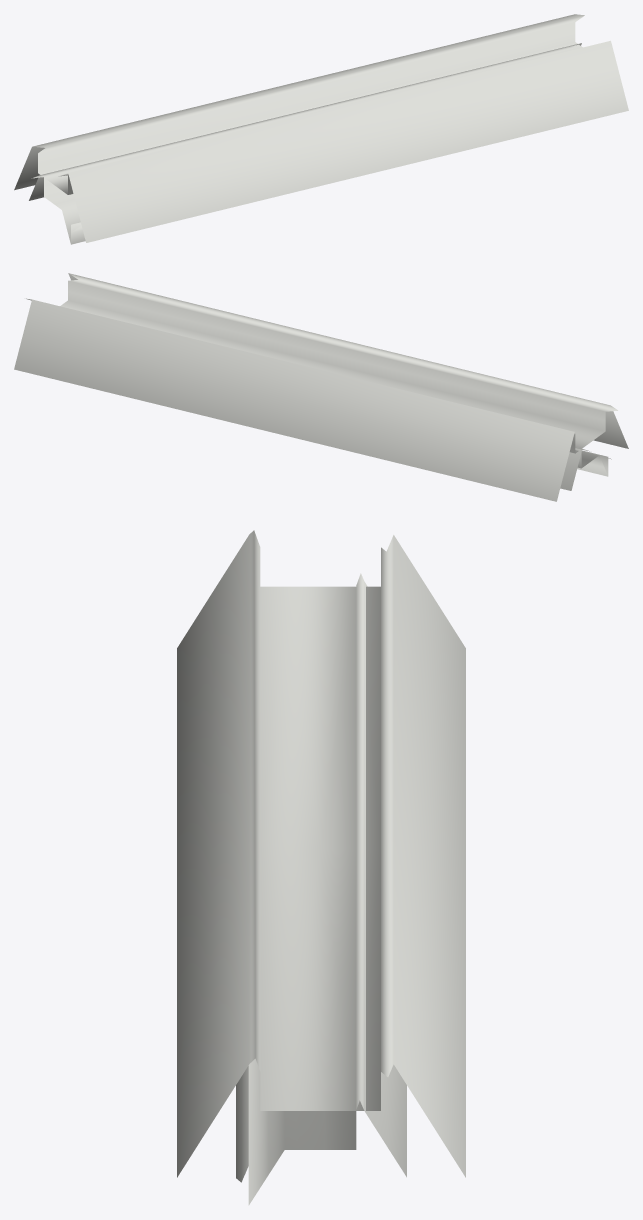
The model's file is iss-truss-s0.glb.
The picture shows the model from 3 angles, top to bottom: view 1: azimuth 30°, elevation 25°; view 2: azimuth 150°, elevation 25°; view 3: azimuth 270°, elevation 25°; orthographic projection. The views are drawn at different scales.
Visible parts, largest first — view 1: truss-s0; view 2: truss-s0; view 3: truss-s0.
Part boxes in pixels (bbox=[...]): truss-s0: bbox=[14, 14, 628, 244]; truss-s0: bbox=[14, 273, 628, 501]; truss-s0: bbox=[177, 530, 465, 1205].
Bounding box in the file's own units: 13.25 × 1.63 × 2.95.
1 material, 1 textured.
